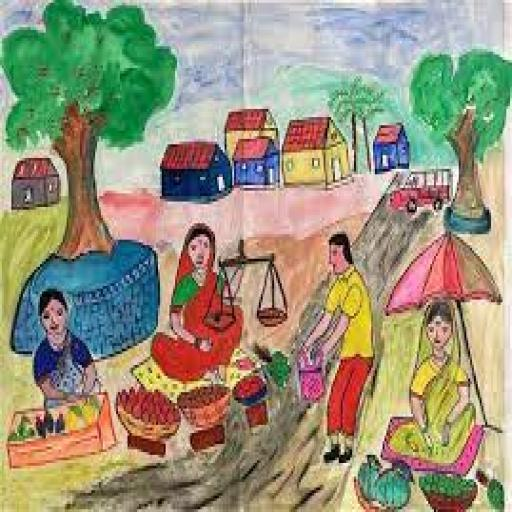person: (299, 227, 381, 480), (381, 294, 490, 480), (142, 216, 247, 392), (29, 278, 101, 410)
